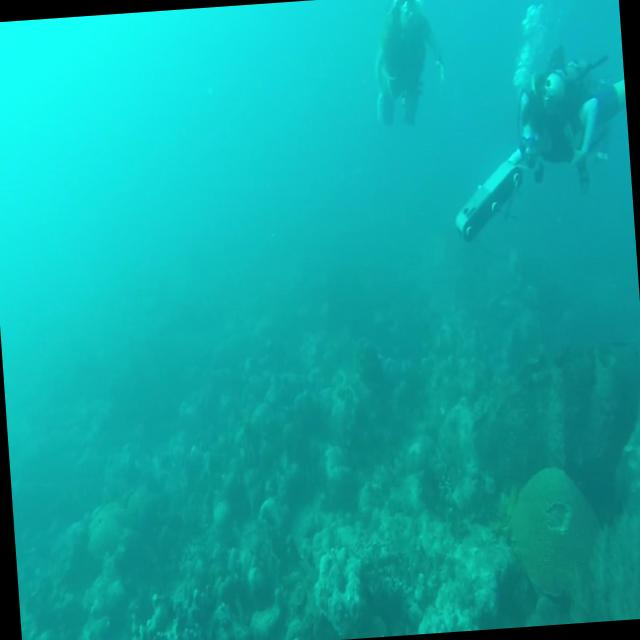human: (442, 29, 635, 244), (511, 30, 632, 194), (367, 0, 448, 129)
